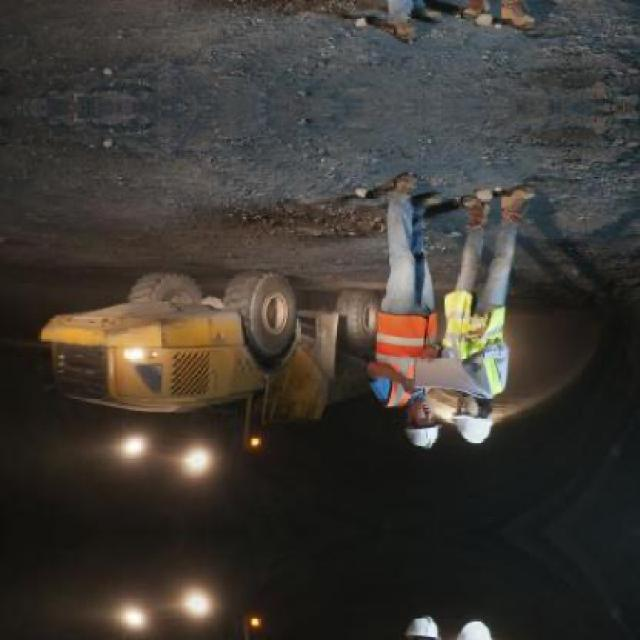con casco: (430, 397, 492, 453), (404, 406, 439, 458)
